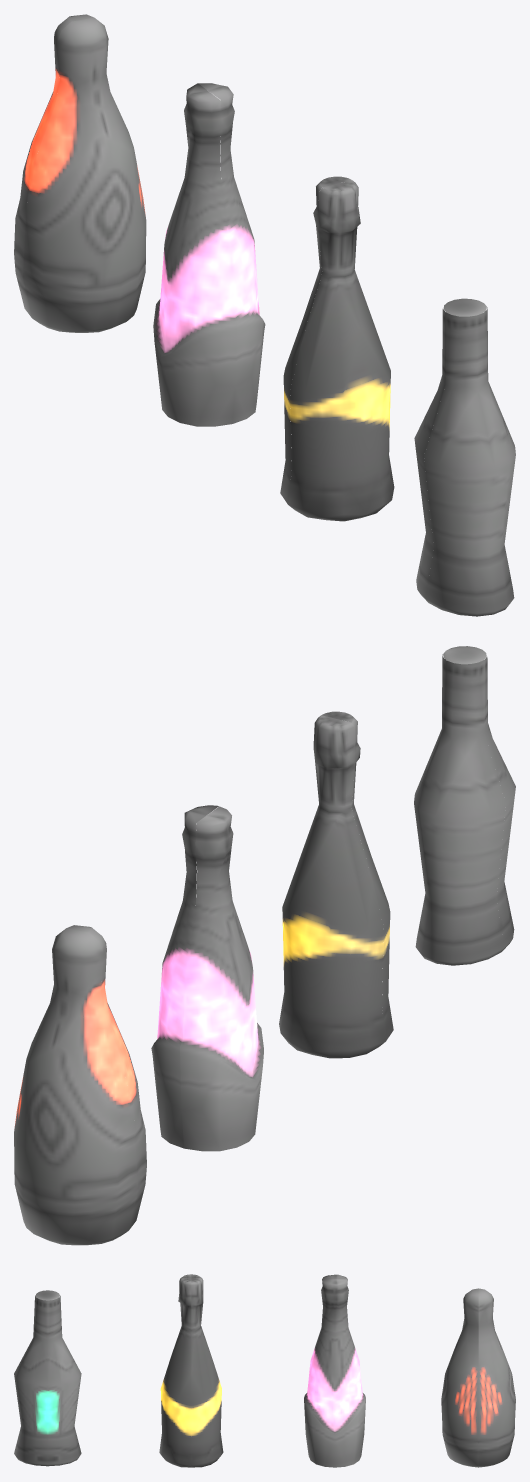
The model's file is bar_bottles_6_b.glb.
The picture shows the model from 3 angles, top to bottom: view 1: azimuth 30°, elevation 25°; view 2: azimuth 150°, elevation 25°; view 3: azimuth 270°, elevation 25°; orthographic projection. The views are drawn at different scales.
Parts seen in each view (by area): view 1: bar_bottles_6; view 2: bar_bottles_6; view 3: bar_bottles_6.
Boxes of the visible parts, bbox=[...] form: bar_bottles_6: bbox=[14, 14, 515, 616]; bar_bottles_6: bbox=[14, 646, 515, 1245]; bar_bottles_6: bbox=[14, 1274, 515, 1467].
Bounding box in the file's own units: 0.1295 × 0.3408 × 0.8707.
1 material, 1 textured.
